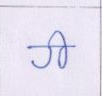i_matra: (53, 30, 69, 68)
